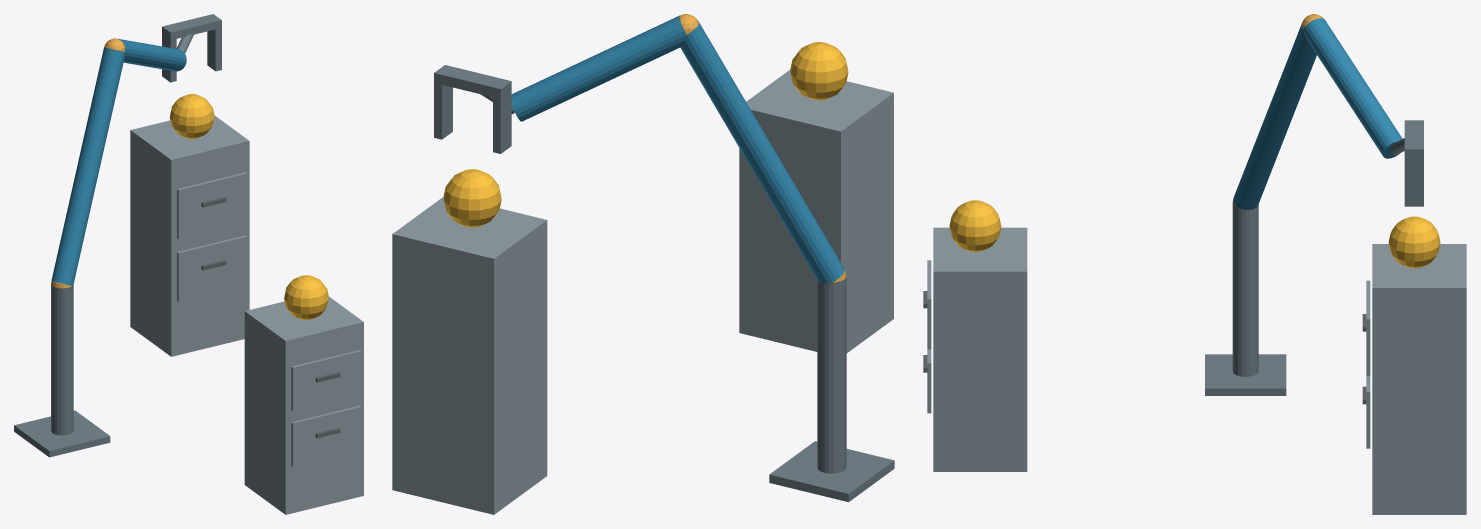
3 renders of one model, left to right at view 1: azimuth 30°, elevation 25°; view 2: azimuth 150°, elevation 25°; view 3: azimuth 270°, elevation 25°, orthographic. The views are drawn at different scales.
Visible parts, largest first — view 1: cabinet_2 body, cabinet_1 body, moving link 1, cabinet_2 drawer front, cabinet_2 drawer front.001, fixed post, cabinet_1 drawer front.001, cabinet_1 drawer front, pedestal, ball ball_2, released ball_1, moving link 2 (+2 smaller); view 2: cabinet_2 body, cabinet_1 body, moving link 1, fixed post, moving link 2, pedestal, ball ball_2, released ball_1, gripper bridge, gripper finger -1, gripper finger 1; view 3: cabinet_2 body, cabinet_1 body, moving link 1, fixed post, moving link 2, pedestal, released ball_1, ball ball_2, gripper finger 1, gripper bridge.
Part boxes in pixels (x1,y1,x2,y2): cabinet_2 body: (130,115,249,356); cabinet_1 body: (244,297,363,514); moving link 1: (51,47,124,285); cabinet_2 drawer front: (177,235,247,302); cabinet_2 drawer front.001: (177,172,247,239); fixed post: (51,283,73,435); cabinet_1 drawer front.001: (291,350,361,411); cabinet_1 drawer front: (291,405,361,466); pedestal: (14,410,110,457); ball ball_2: (169,94,214,138); released ball_1: (284,275,328,320); moving link 2: (118,39,186,71); cabinet_2 body: (392,197,547,514); cabinet_1 body: (739,70,893,352); moving link 1: (680,21,844,283); fixed post: (817,276,846,473); moving link 2: (511,15,686,121); pedestal: (769,441,894,502); ball ball_2: (443,169,501,227); released ball_1: (790,42,848,100); gripper bridge: (434,65,511,98); gripper finger -1: (493,91,511,153); gripper finger 1: (434,83,452,139); cabinet_2 body: (1372,244,1466,514); cabinet_1 body: (933,227,1027,471); moving link 1: (1233,21,1316,210); fixed post: (1232,202,1258,376); moving link 2: (1303,18,1402,158); pedestal: (1205,354,1286,395); released ball_1: (949,200,1001,252); ball ball_2: (1388,216,1440,268); gripper finger 1: (1404,158,1423,206); gripper bridge: (1404,120,1423,157).
Size of the model in its own units: 1.12 by 1.39 by 1.67.
